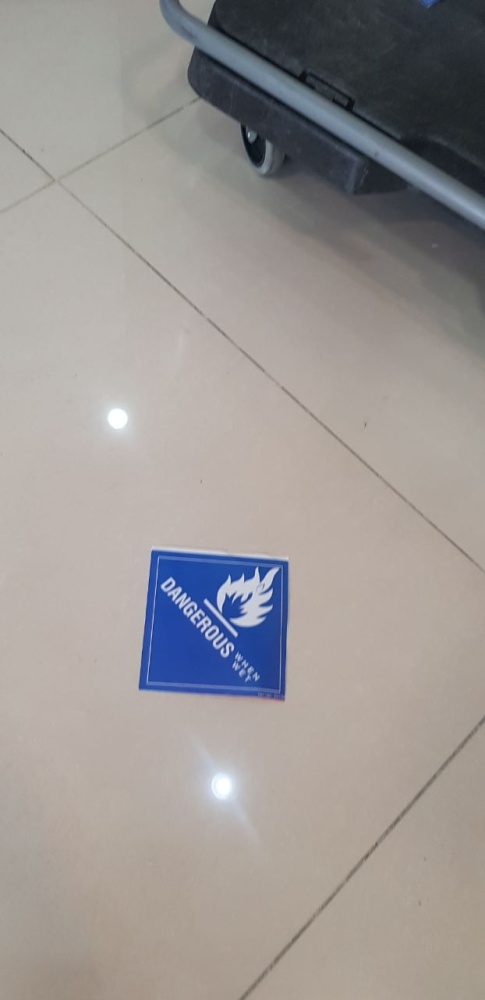Dangerous when wet: (139, 546, 289, 701)
